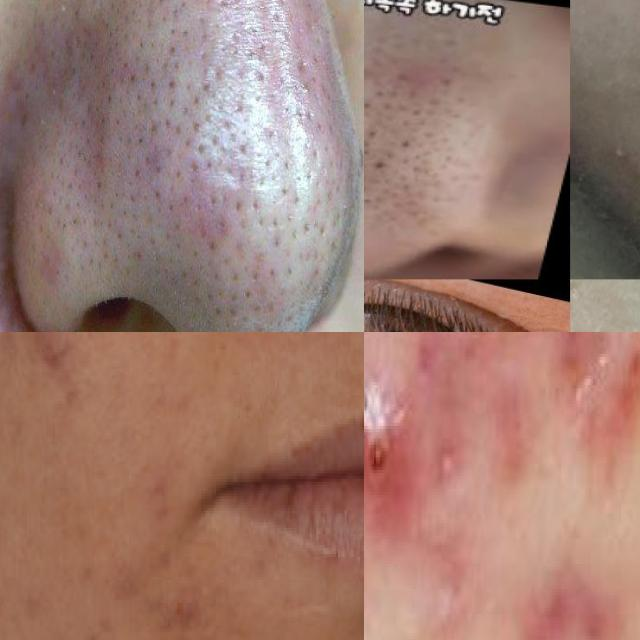acne_scars: (503, 538, 619, 640)
comedone: (207, 246, 289, 332), (169, 149, 242, 244), (231, 46, 295, 139), (47, 150, 109, 244), (246, 142, 302, 238), (128, 34, 184, 122), (304, 50, 348, 156), (70, 39, 120, 121), (181, 60, 228, 145), (117, 145, 165, 224), (302, 165, 347, 246), (589, 130, 640, 197), (396, 136, 457, 182), (364, 125, 417, 174), (231, 0, 303, 35), (178, 0, 225, 49), (364, 69, 413, 116), (92, 0, 168, 21), (364, 167, 385, 206)
cystic: (364, 385, 416, 557)
